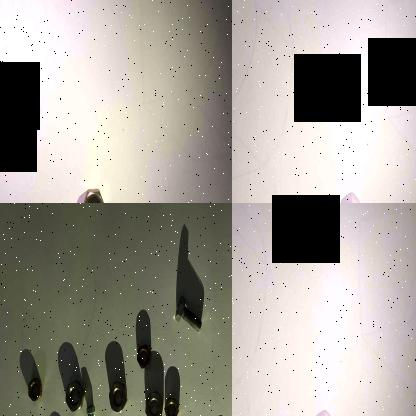Bolts: (174, 294, 204, 336), (85, 401, 101, 416)
NUTS: (108, 376, 130, 416), (77, 177, 109, 203), (64, 378, 84, 412), (133, 341, 153, 371), (26, 374, 46, 404), (143, 390, 163, 416), (164, 397, 180, 416)
